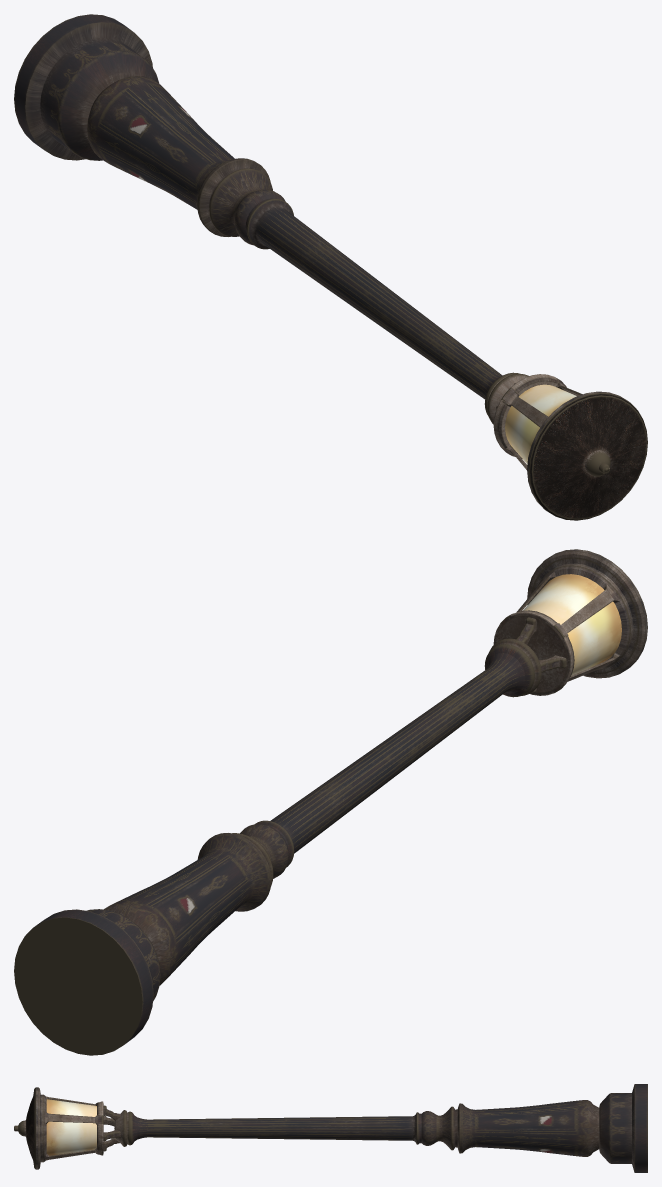
The picture shows the model from 3 angles, top to bottom: view 1: azimuth 30°, elevation 25°; view 2: azimuth 150°, elevation 25°; view 3: azimuth 270°, elevation 25°; orthographic projection. The views are drawn at different scales.
Parts seen in each view (by area): view 1: Lantern_lambert1_0; view 2: Lantern_lambert1_0; view 3: Lantern_lambert1_0.
Part boxes in pixels (x1,y1,x2,y2): Lantern_lambert1_0: (14, 14, 647, 520); Lantern_lambert1_0: (14, 549, 647, 1055); Lantern_lambert1_0: (14, 1084, 647, 1172).
Size of the model in its own units: 0.7493 by 0.7493 by 5.33.
1 material, 1 textured.
